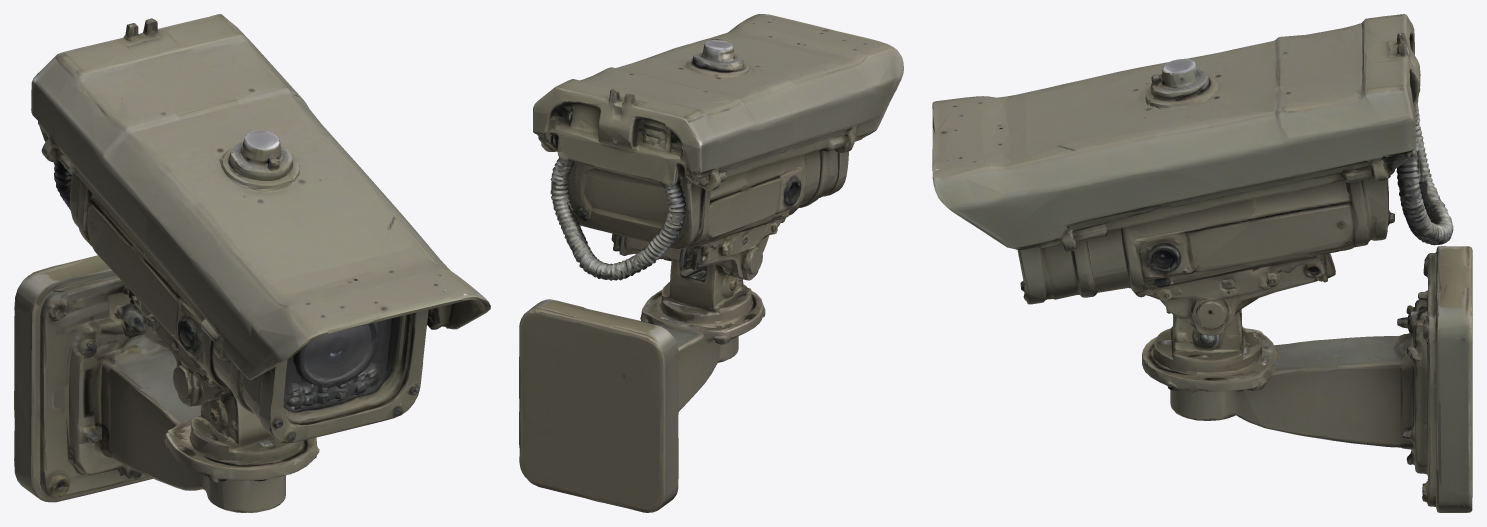
The model's file is cctv.glb.
3 views of the same model, side by side, from view 1: azimuth 30°, elevation 25°; view 2: azimuth 150°, elevation 25°; view 3: azimuth 270°, elevation 25° (orthographic). The views are drawn at different scales.
Parts seen in each view (by area): view 1: output_unwrapped; view 2: output_unwrapped; view 3: output_unwrapped.
Part boxes in pixels (x1,y1,x2,y2): output_unwrapped: (14,14,490,512); output_unwrapped: (519,14,903,512); output_unwrapped: (932,14,1472,512).
Size of the model in its own units: 0.822 by 1.73 by 1.91.
Materials: 1 (1 with a texture image).
